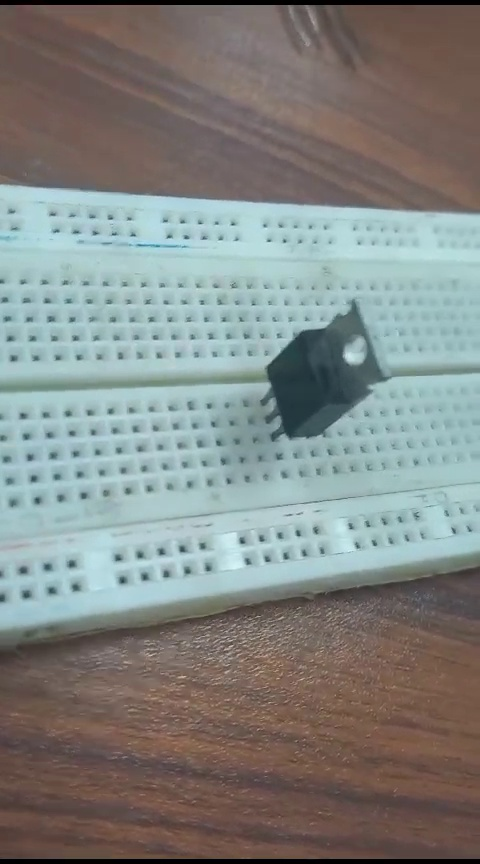voltage regulator: (249, 303, 405, 456)
